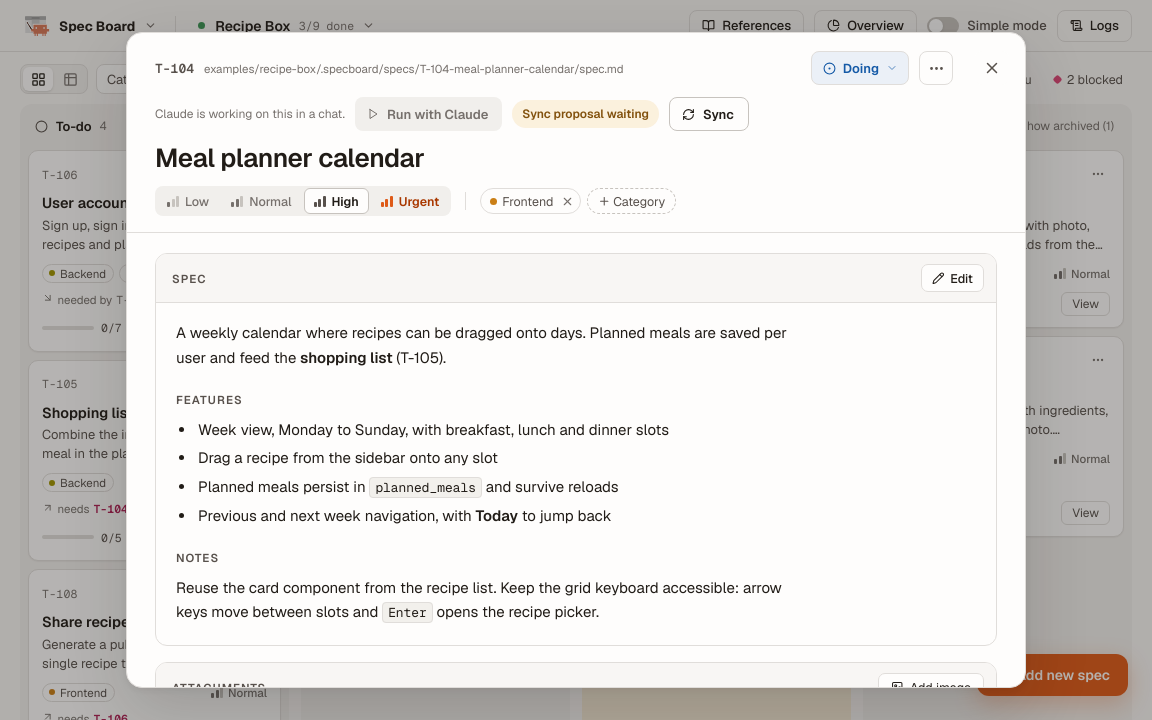
Test case: Sync one card from its detail › its waiting proposal shows beside Sync and reopens the confirm view
The image size is (1152, 720).
Click the button "Sync proposal waiting" at (586, 114), box [512,100,659,128]
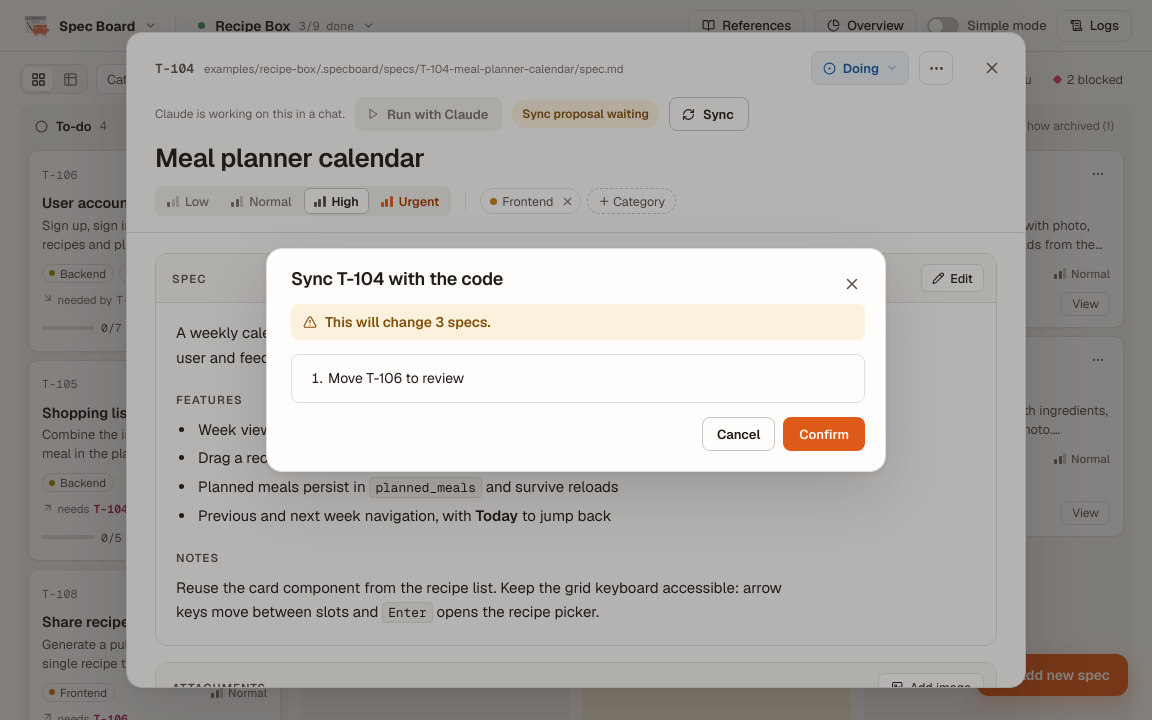
Result: the heading "Sync T-104 with the code" is shown at [291,267,503,290]
Result: the text "This will change 3 specs." is shown at [291,304,865,340]
